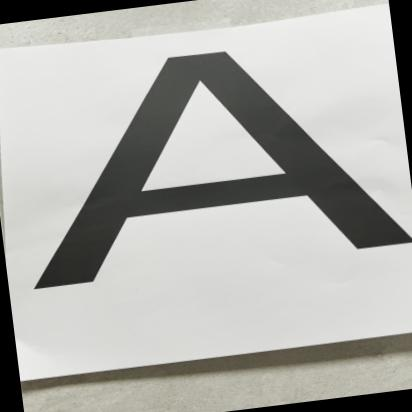seat: (13, 21, 412, 311)
